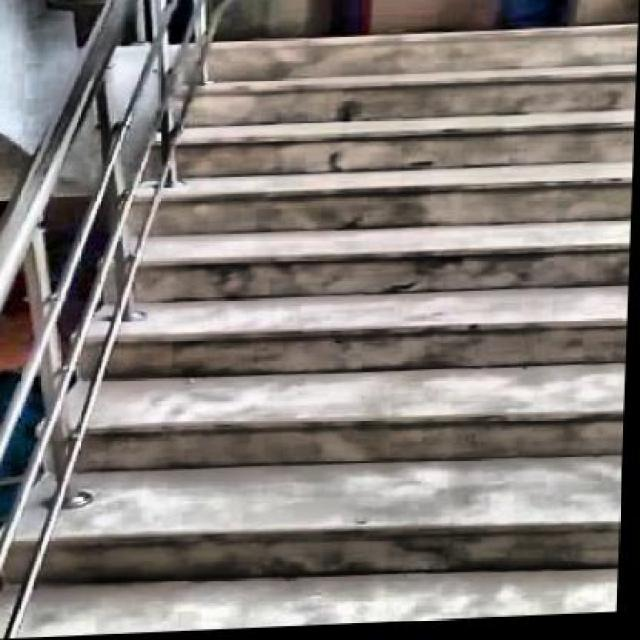stair: (111, 18, 637, 634)
